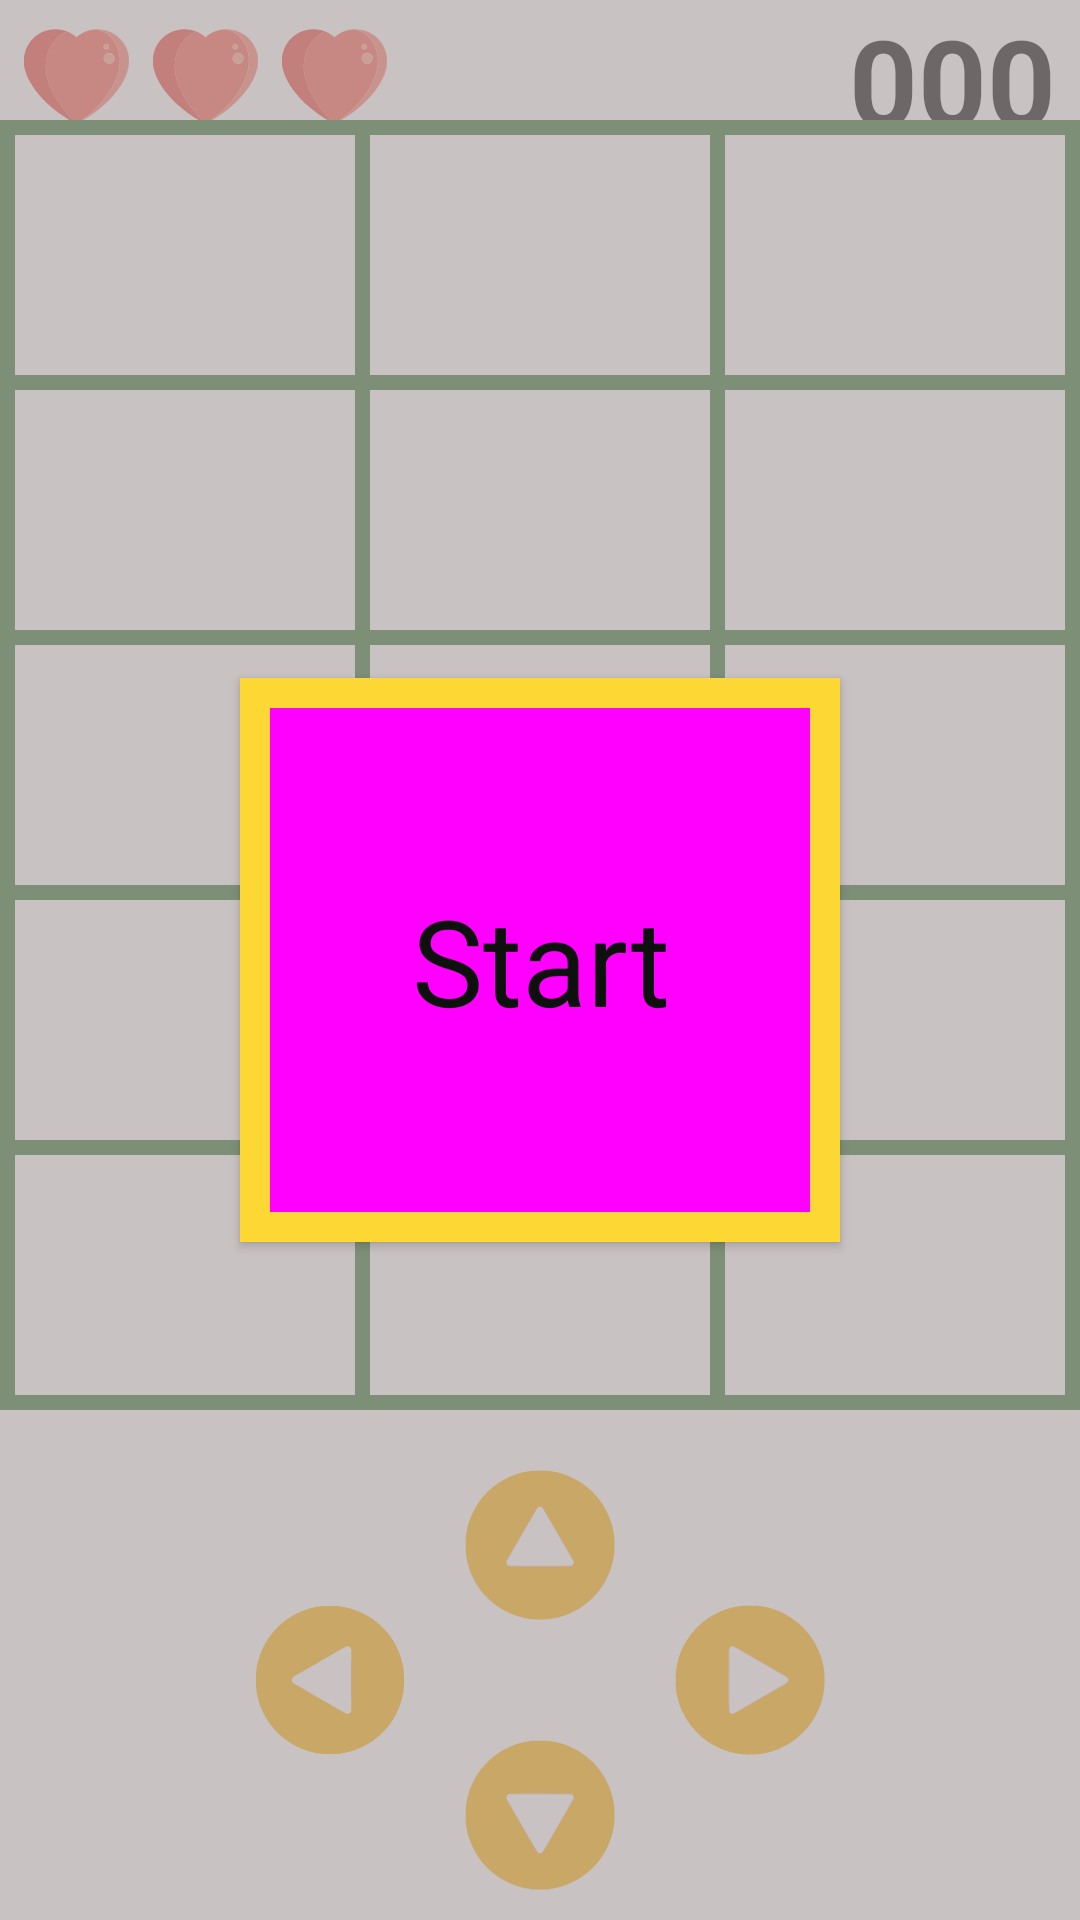

Icons on this 1080 x 1920 Android screen, each with the point to tap as (x=x, y=y):
down: (x=540, y=1815)
heart: (x=76, y=79), (x=205, y=79), (x=334, y=79)
left: (x=330, y=1680)
right: (x=750, y=1680)
